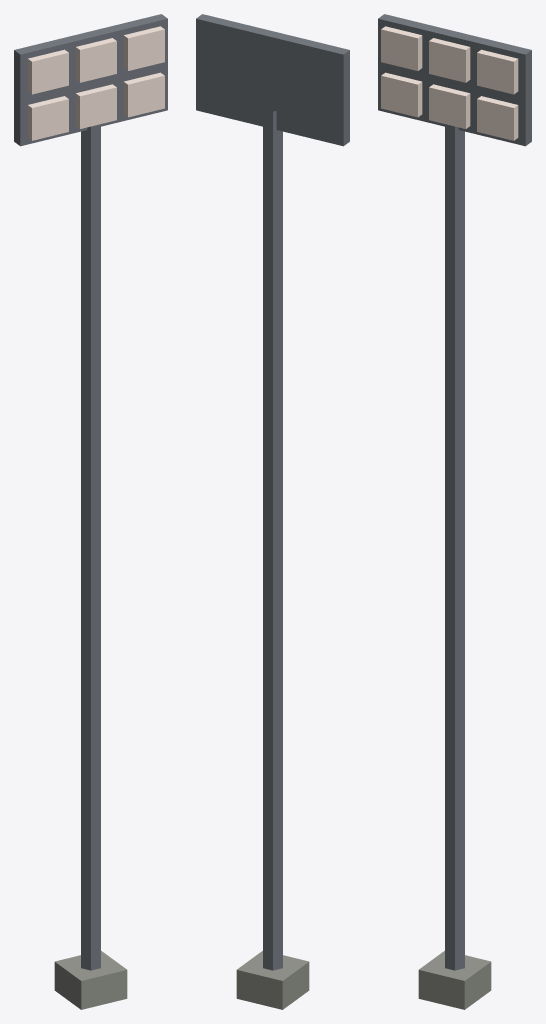
File: site_floodlight.fbx
The picture shows the model from 3 angles, left to right: view 1: azimuth 30°, elevation 25°; view 2: azimuth 150°, elevation 25°; view 3: azimuth 330°, elevation 25°; orthographic projection.
Visible parts, largest first — view 1: a3008/0/site_floodlight; view 2: a3008/0/site_floodlight; view 3: a3008/0/site_floodlight.
Boxes of the visible parts, left/top/right/bottom form: a3008/0/site_floodlight: left=14, top=14, right=167, bottom=1009; a3008/0/site_floodlight: left=196, top=14, right=349, bottom=1009; a3008/0/site_floodlight: left=378, top=14, right=531, bottom=1009.
Size of the model in its own units: 1.6 by 9.95 by 0.5.
